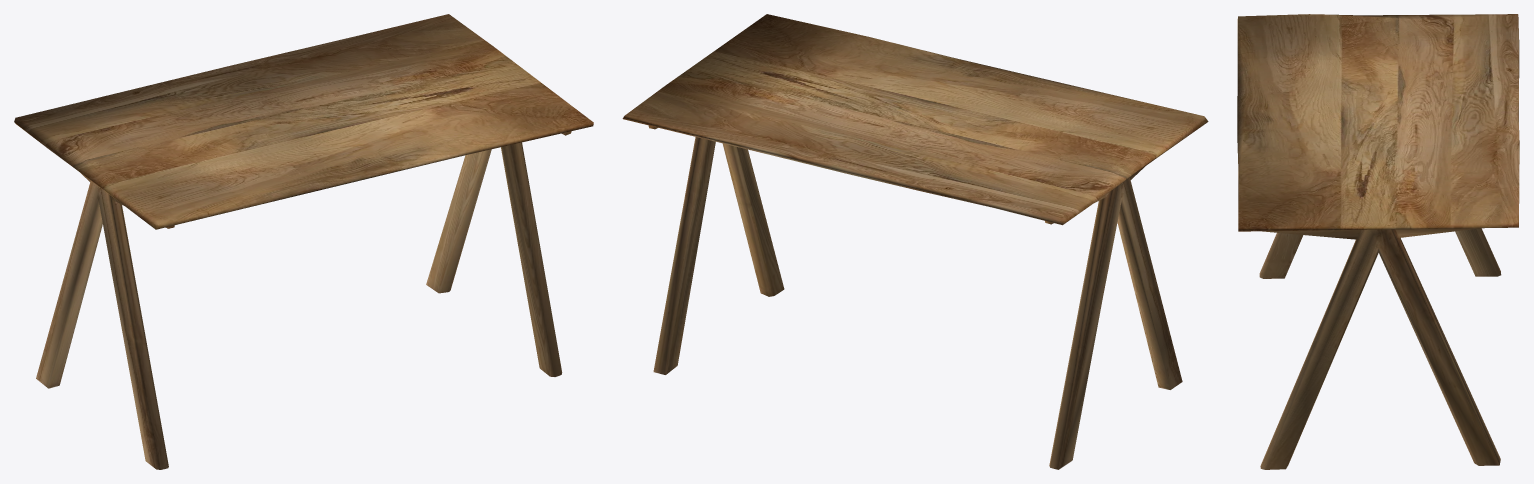
File: Table.glb
The picture shows the model from 3 angles, left to right: view 1: azimuth 30°, elevation 25°; view 2: azimuth 150°, elevation 25°; view 3: azimuth 270°, elevation 25°; orthographic projection. The views are drawn at different scales.
Visible parts, largest first — view 1: vl0jbem_LOD0_TIER3_000_MatID_1_0; view 2: vl0jbem_LOD0_TIER3_000_MatID_1_0; view 3: vl0jbem_LOD0_TIER3_000_MatID_1_0.
Boxes of the visible parts, x1,y1,x2,y2 form: vl0jbem_LOD0_TIER3_000_MatID_1_0: [14, 14, 593, 469]; vl0jbem_LOD0_TIER3_000_MatID_1_0: [622, 14, 1208, 469]; vl0jbem_LOD0_TIER3_000_MatID_1_0: [1237, 14, 1519, 469].
Bounding box in the file's own units: 1.32 × 0.7529 × 0.7482.
1 material, 1 textured.
